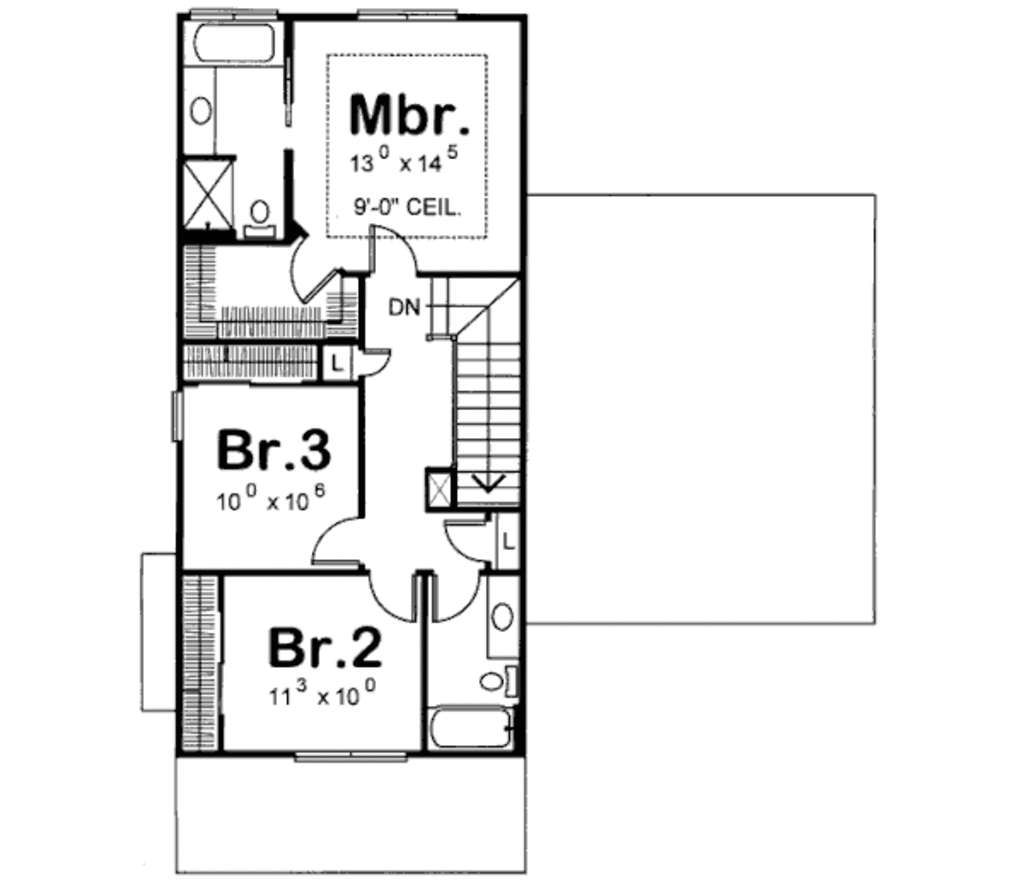door: (441, 507, 511, 572), (289, 229, 342, 310), (308, 505, 377, 565), (422, 572, 490, 626), (363, 224, 430, 274), (364, 568, 420, 623), (344, 338, 405, 386)
large_sink: (463, 659, 523, 698), (242, 197, 286, 241)
small_sink: (488, 567, 522, 657), (187, 63, 220, 151)
stairs: (421, 269, 527, 504)
tub: (184, 18, 288, 64), (428, 705, 513, 760)
window: (357, 3, 458, 28), (292, 751, 412, 765), (164, 389, 193, 446)
